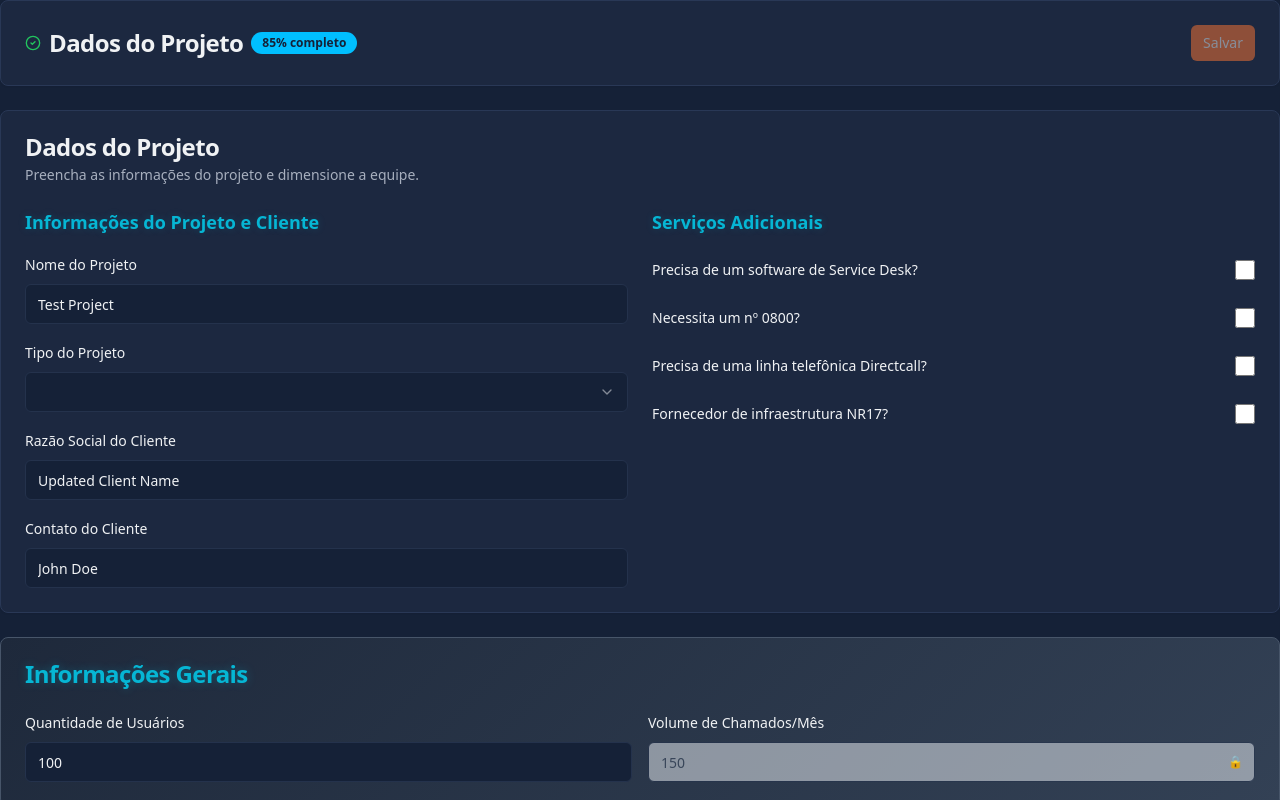
DataTabModule › User Interactions › should show "Salvando..." badge when there are unsaved changes
The image size is (1280, 800).
Step 1. Type " Updated" into the field showing "Test Project" → (326, 304), box [25,284,628,324]
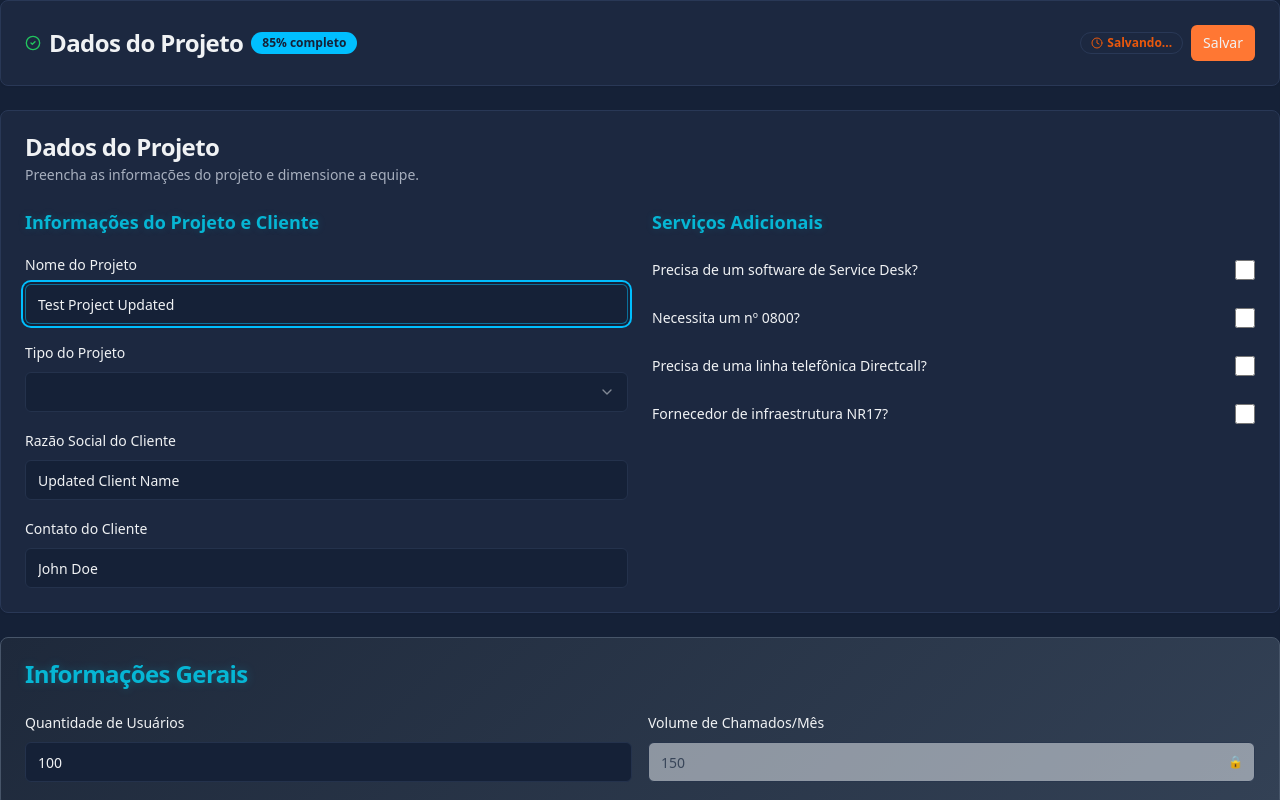
Result: the text "Salvando..." is shown at [1080,32,1183,54]
